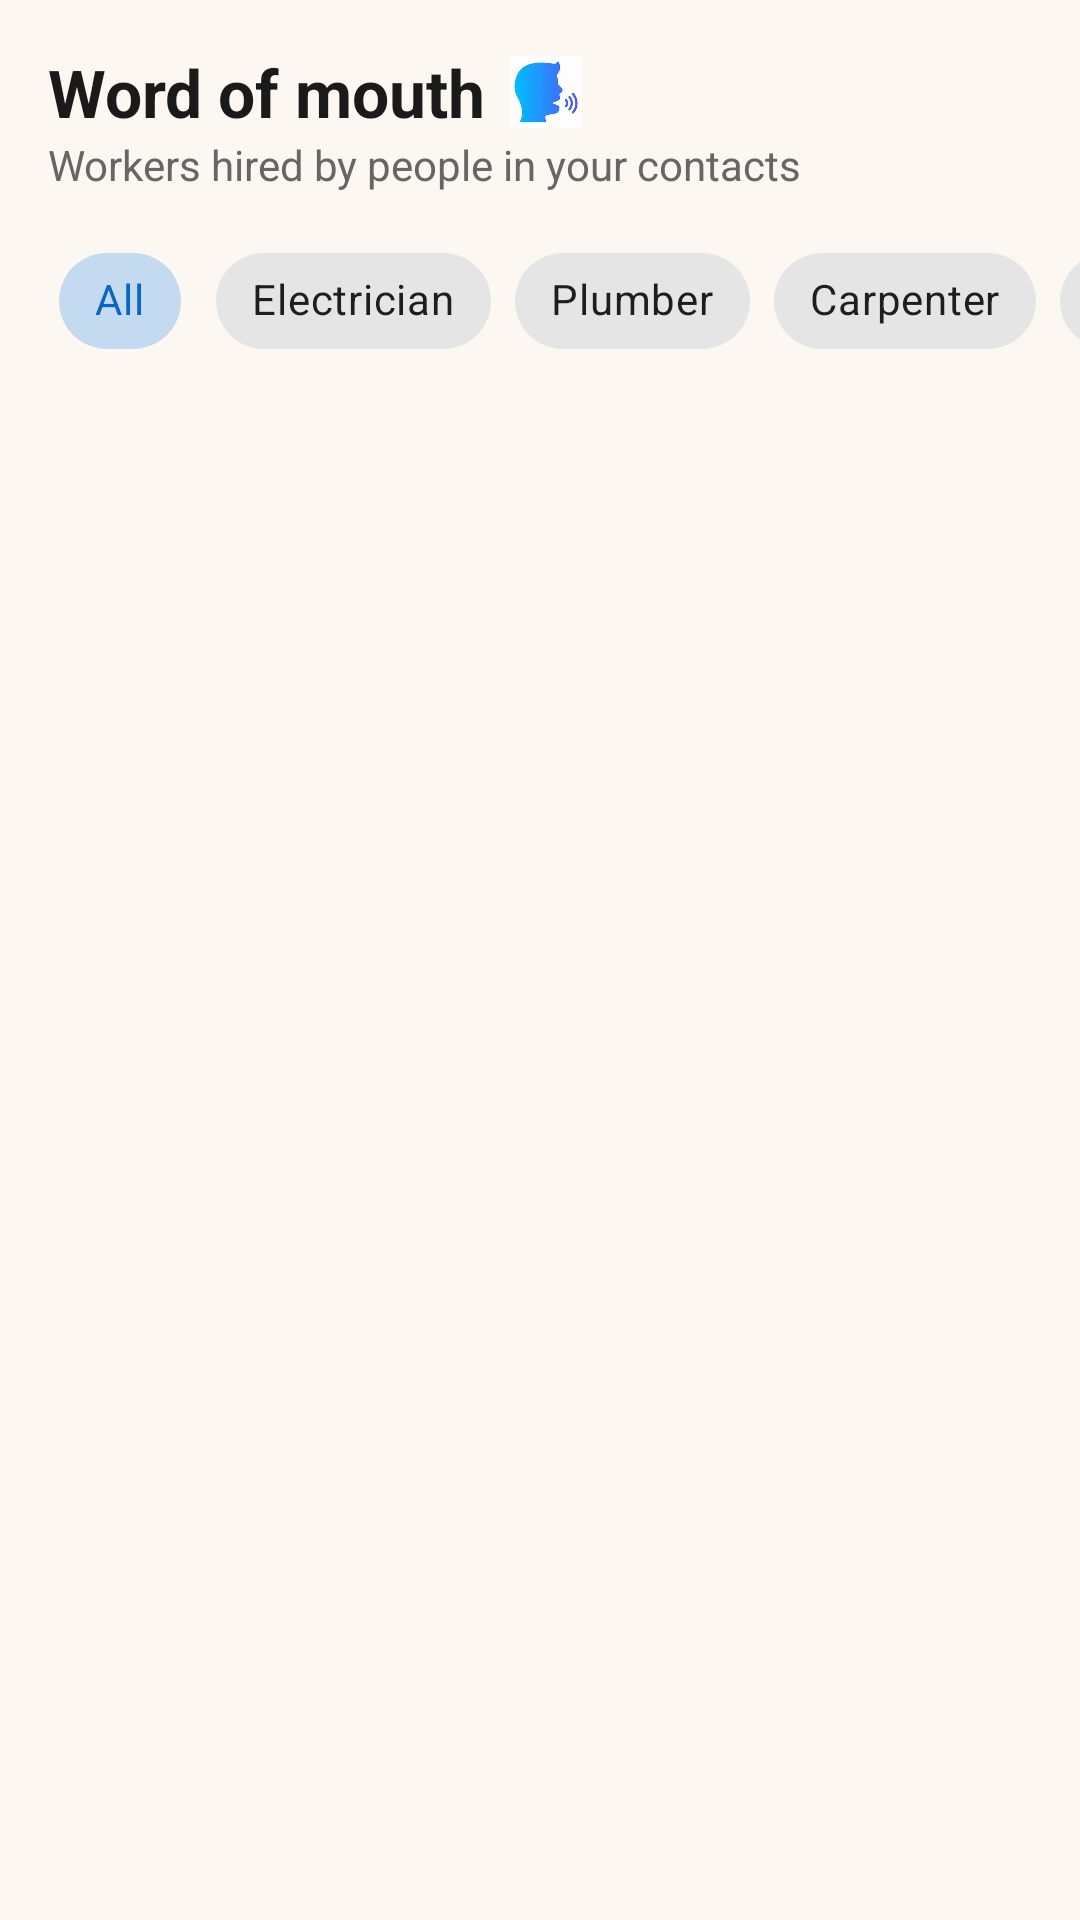

Icon bounding boxes for this 1080px×1920px phone screenshot, format (x1, y1, x2, y2):
wom: (514, 62, 578, 123)
